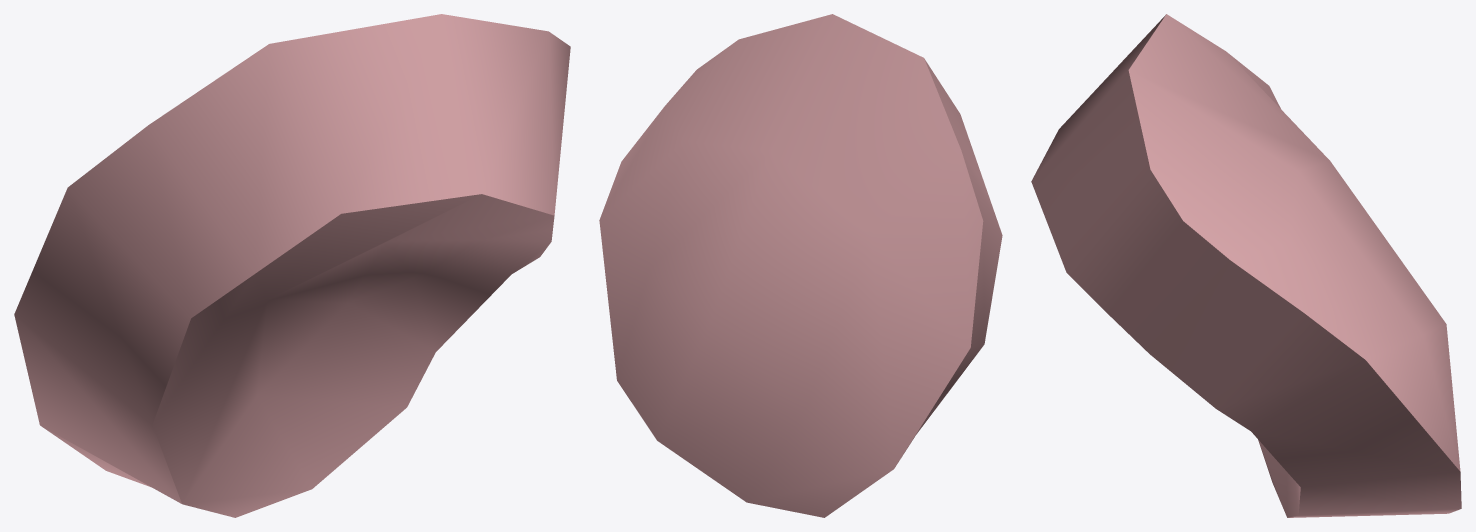
3 views of the same model, side by side, from view 1: azimuth 30°, elevation 25°; view 2: azimuth 150°, elevation 25°; view 3: azimuth 270°, elevation 25° (orthographic). The views are drawn at different scales.
Parts seen in each view (by area): view 1: ZA_be7ea4b5ad2b4ff7; view 2: ZA_be7ea4b5ad2b4ff7; view 3: ZA_be7ea4b5ad2b4ff7.
Boxes of the visible parts, x1,y1,x2,y2 form: ZA_be7ea4b5ad2b4ff7: (14,14,570,517); ZA_be7ea4b5ad2b4ff7: (599,14,1002,517); ZA_be7ea4b5ad2b4ff7: (1031,14,1461,517).
Size of the model in its own units: 0.0094 by 0.00962 by 0.00791.
